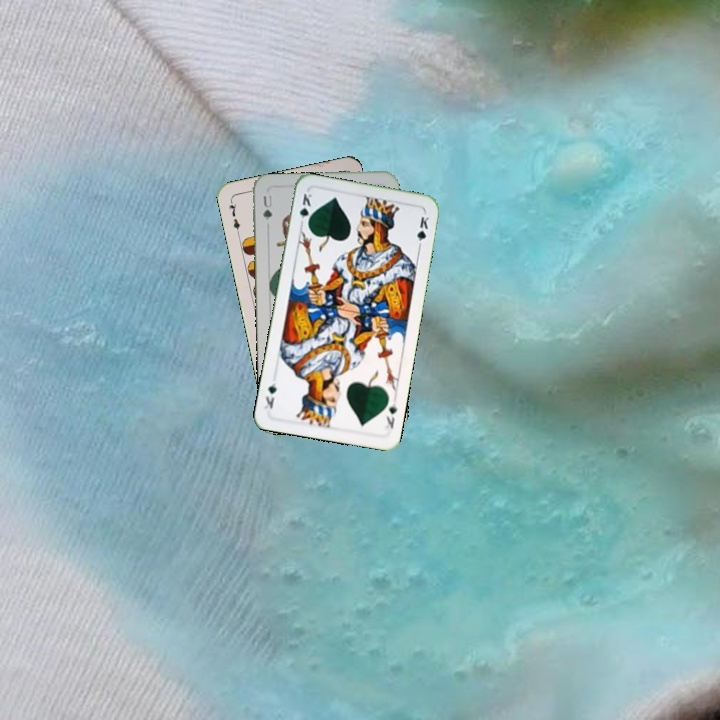E7: (225, 197, 243, 237)
GK: (295, 189, 315, 229), (381, 398, 399, 434)
GU: (259, 191, 275, 229)
